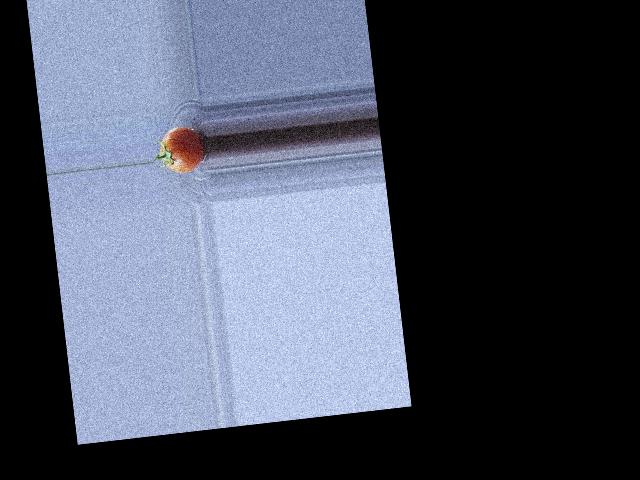tomato: (158, 124, 207, 174)
